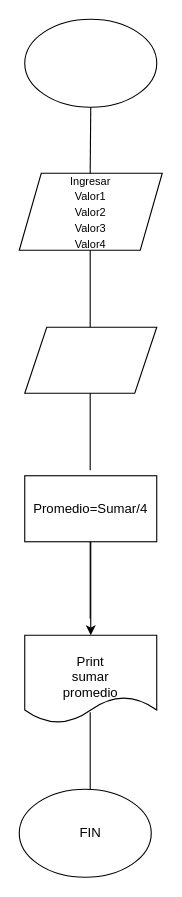
The diagram is 182 pixels wide and 897 high, and some of its shapes have lost their labels. The shapes that lost their labels are listed below. From the top down, each one's box as (x1, y1, x2, y2) in pixels, then its label:
(24, 18, 157, 107): INICIO
(24, 326, 157, 393): Sumar= Valor1+Valor2+ Valor3+Valor4
